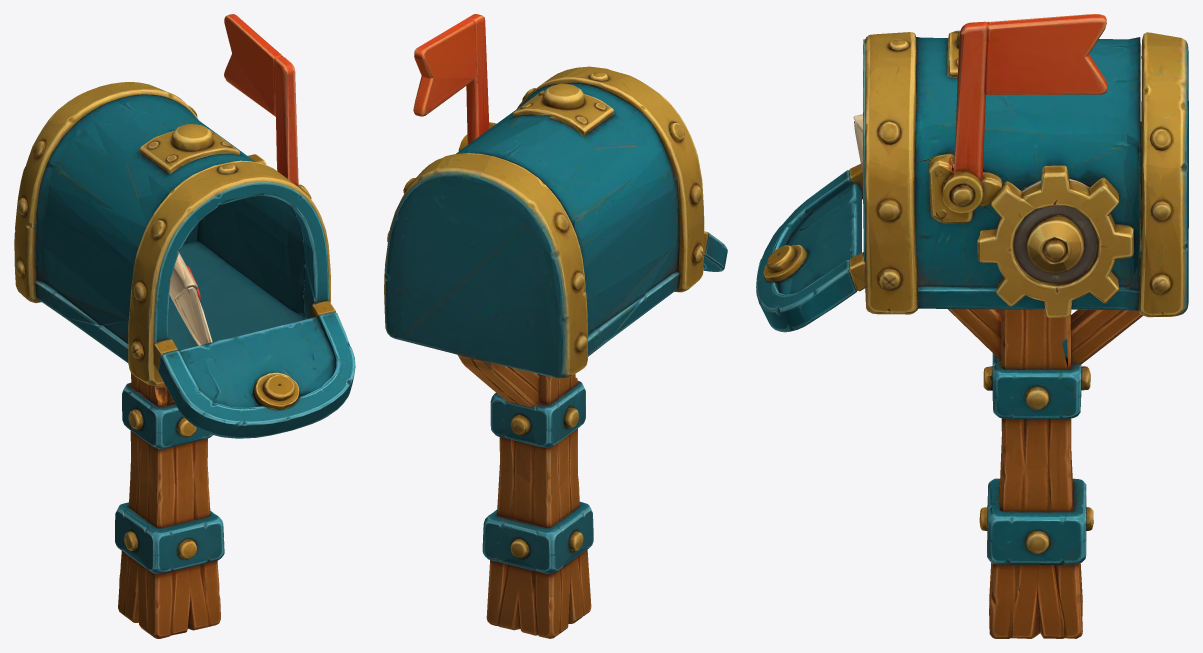
File: shelter_mailbox.glb
3 renders of one model, left to right at view 1: azimuth 30°, elevation 25°; view 2: azimuth 150°, elevation 25°; view 3: azimuth 270°, elevation 25°, orthographic. The views are drawn at different scales.
Parts seen in each view (by area): view 1: output_unwrapped; view 2: output_unwrapped; view 3: output_unwrapped.
Boxes of the visible parts, x1,y1,x2,y2 form: output_unwrapped: (14,14,355,638); output_unwrapped: (384,14,727,638); output_unwrapped: (756,14,1188,638).
Size of the model in its own units: 0.7471 by 1.9 by 1.14.
1 material, 1 textured.
